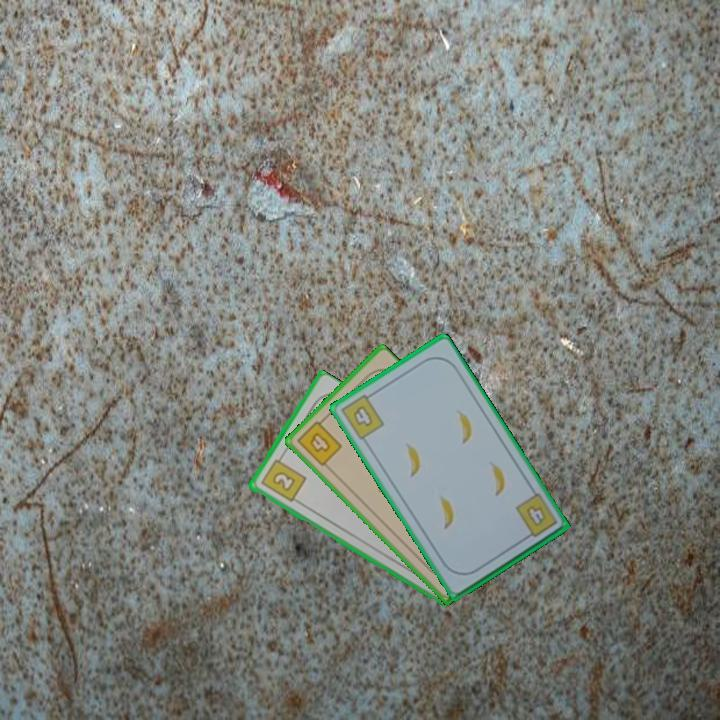2b: (257, 451, 308, 505)
4b: (293, 414, 345, 469), (337, 389, 387, 443), (511, 491, 560, 543)
